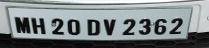0: (67, 19, 81, 36)
2: (51, 17, 66, 36), (169, 17, 183, 35), (122, 18, 136, 35)
3: (138, 18, 152, 35)
6: (153, 18, 167, 35)
D: (86, 19, 102, 36)
H: (31, 16, 47, 35)
M: (14, 15, 32, 34)
V: (102, 18, 117, 37)
